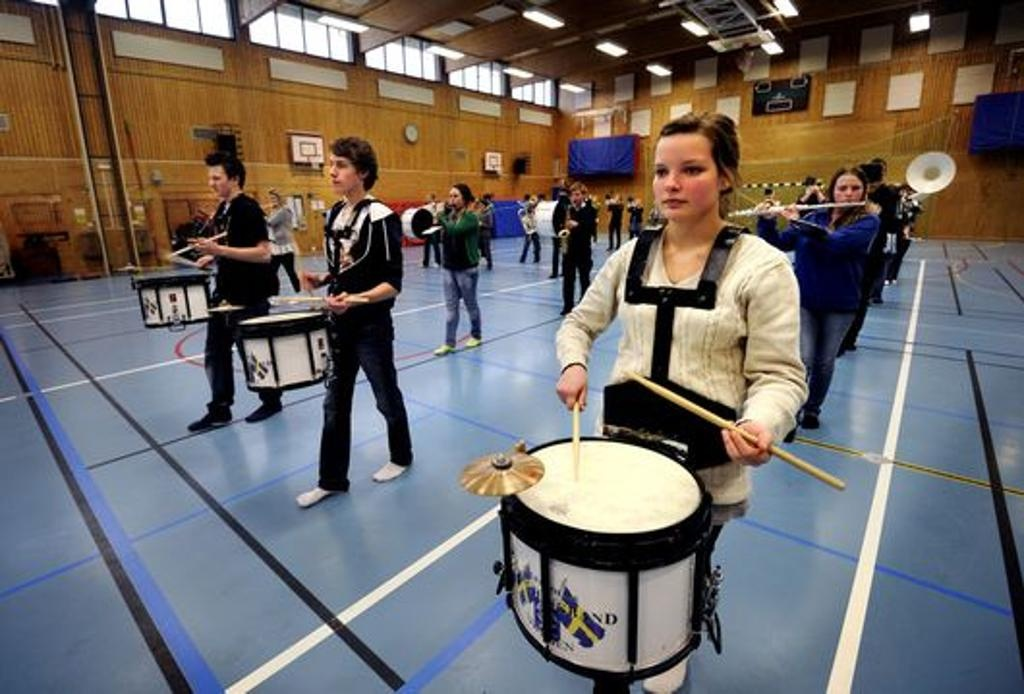human_face: (652, 136, 718, 221), (328, 154, 356, 192), (834, 174, 862, 211), (207, 164, 229, 196), (449, 186, 461, 207), (270, 194, 280, 206), (570, 190, 580, 202), (479, 200, 485, 210), (614, 194, 618, 200), (634, 200, 638, 206), (427, 196, 431, 202)
